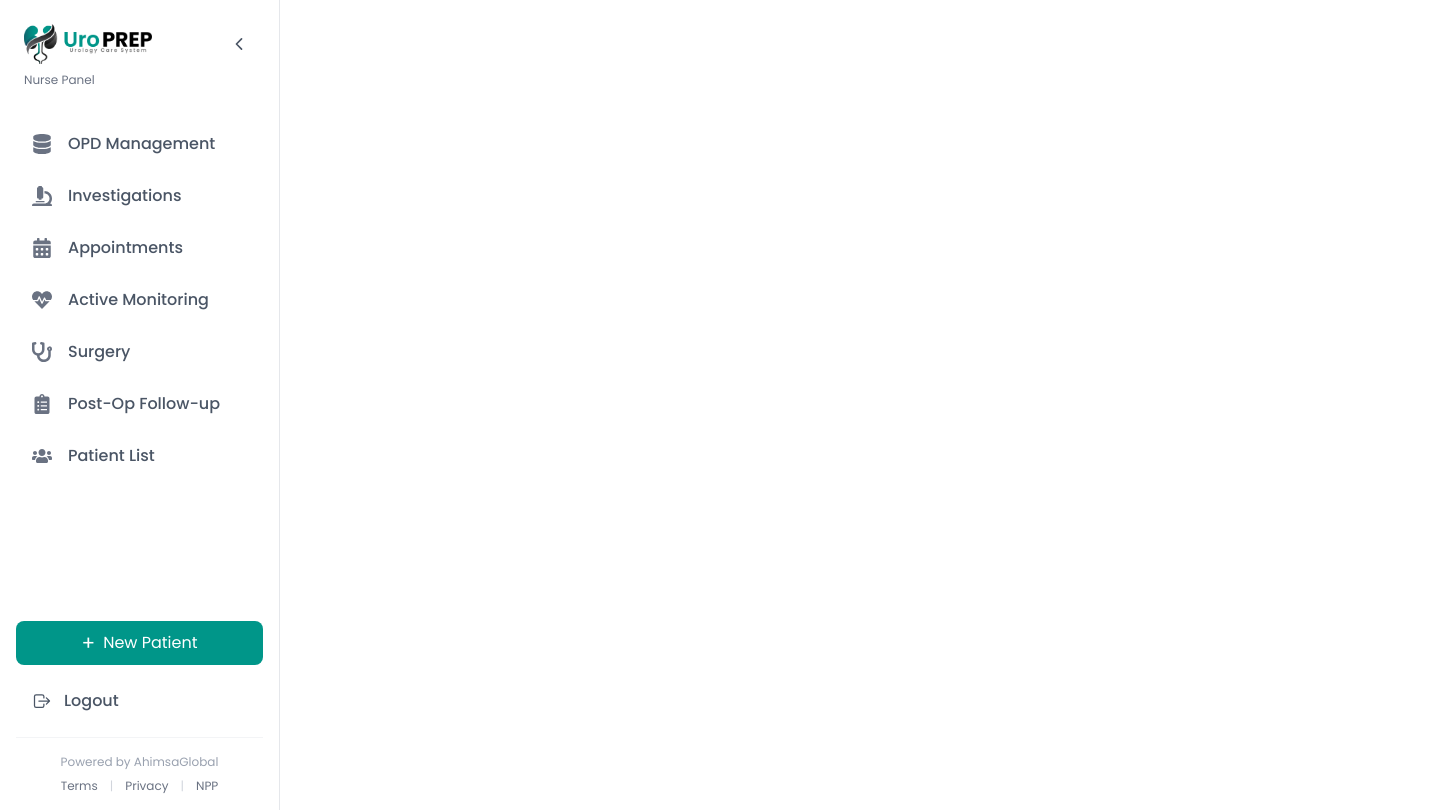
Test: NurseSidebar › opens NPP modal when NPP button is clicked
What coordinates should you click on to do the following:
click the button "NPP"
I would click on:
 (207, 786)
Its box is [196,778,218,794].
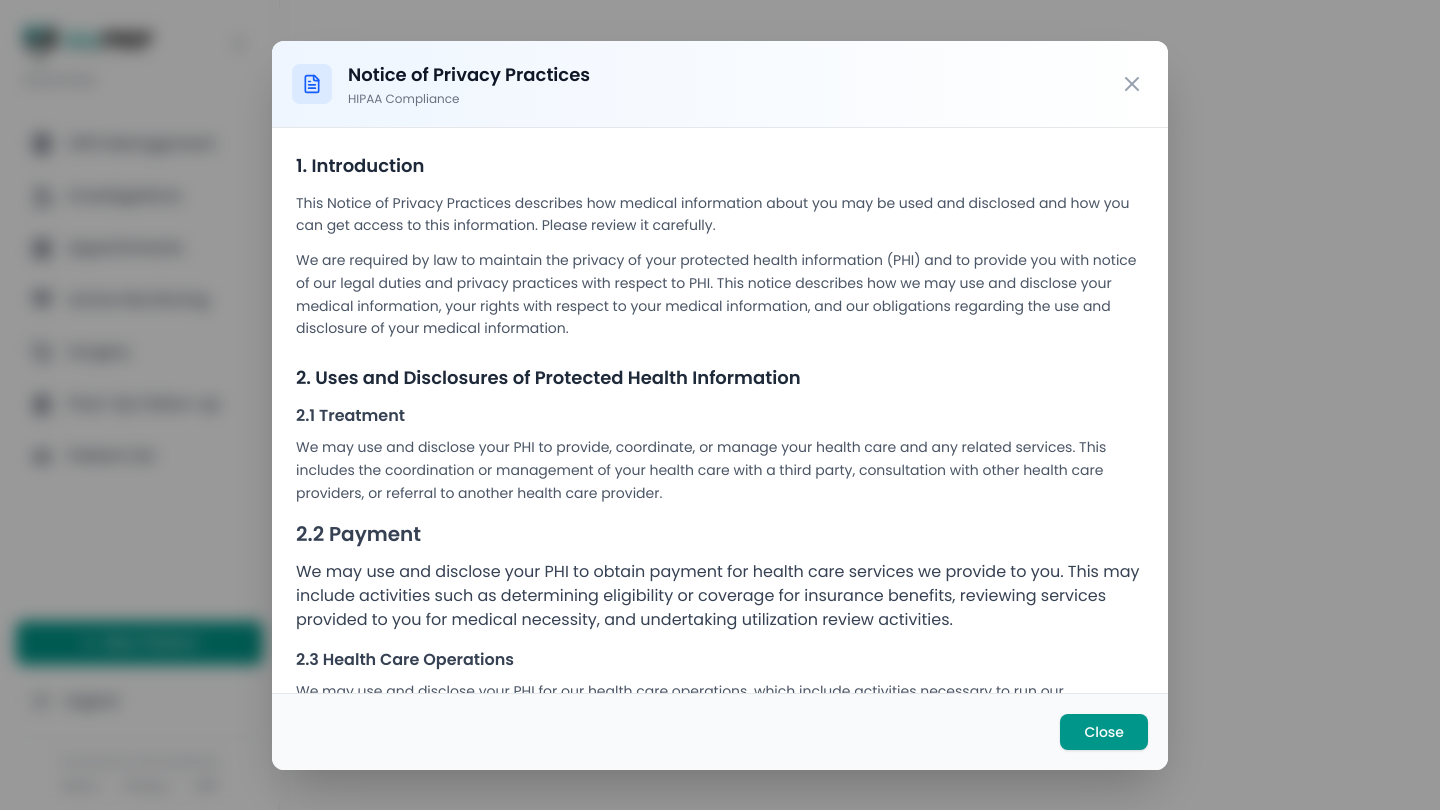
Expected: the heading "Notice of Privacy Practices" is shown, [348,60,590,88]
